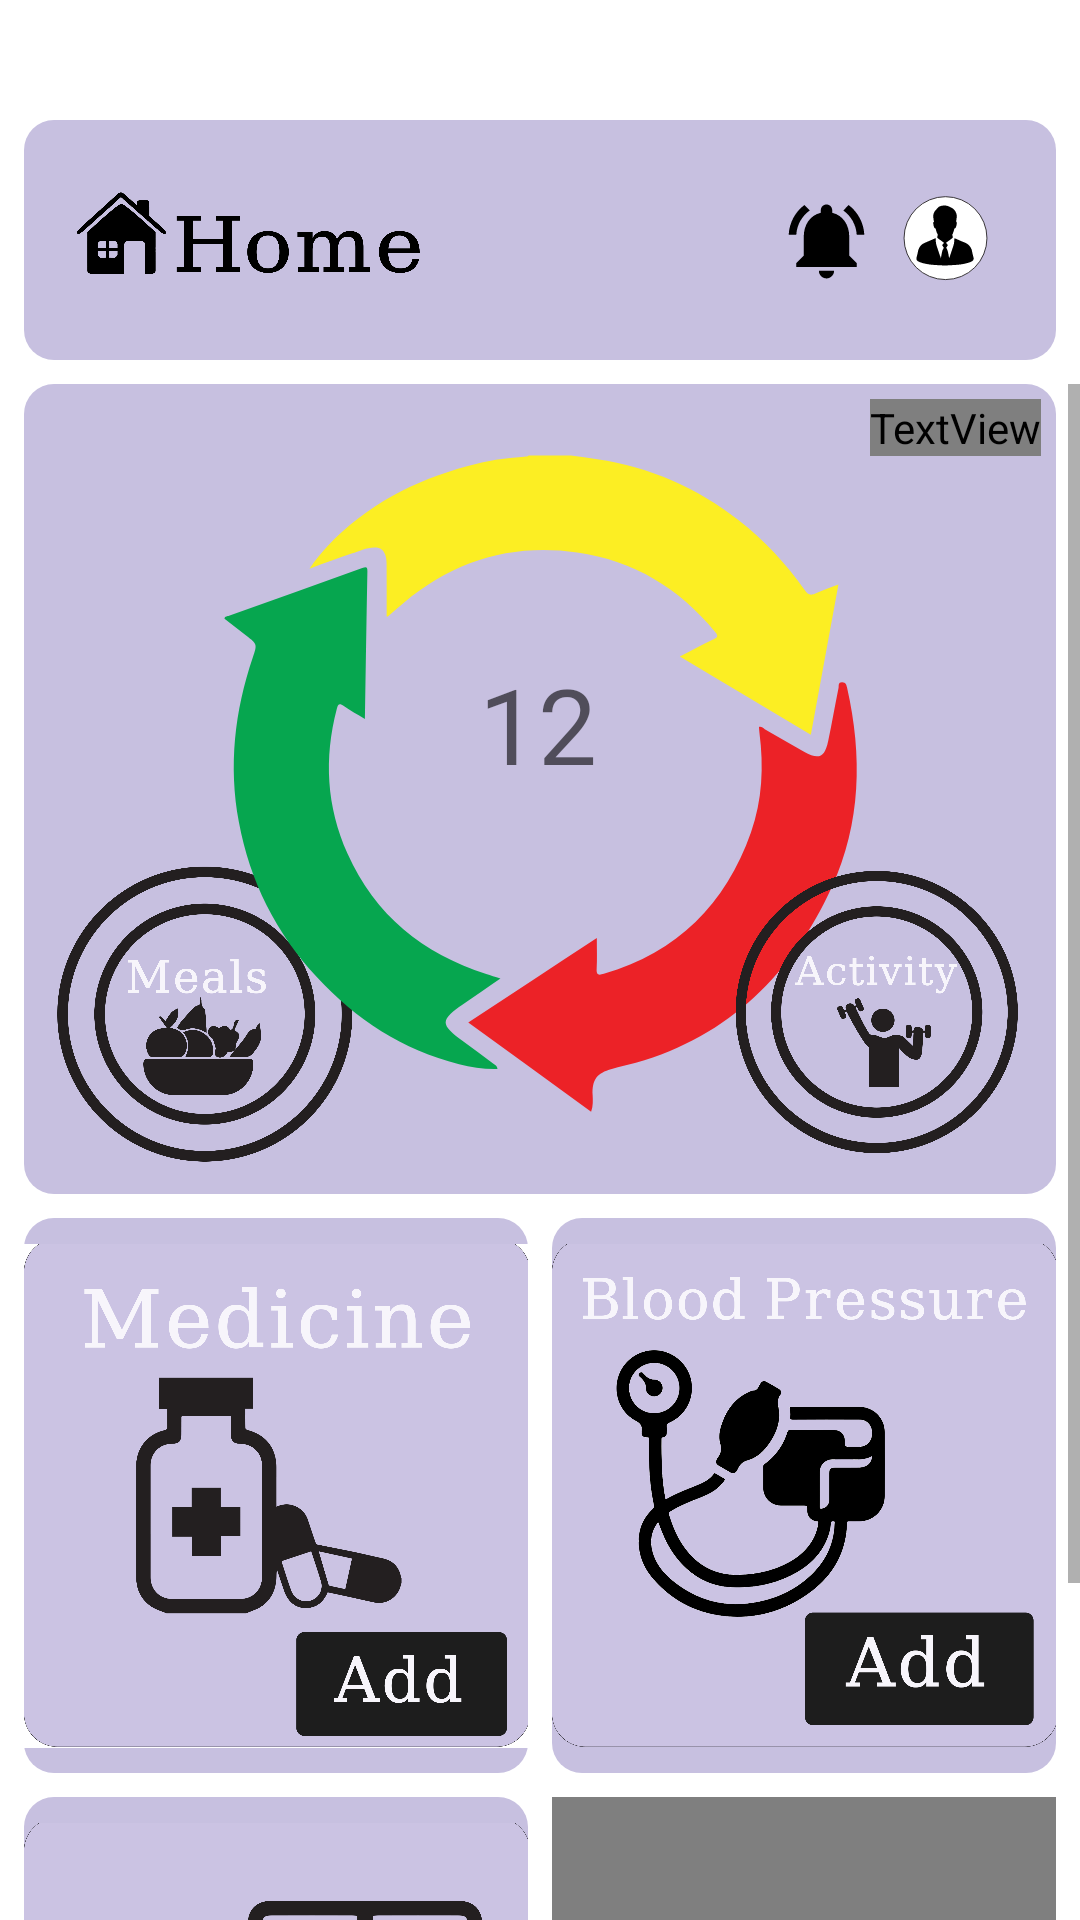

Named icons in this screenshot (1080 x 1920) and their centers, (x,y):
Notification Icon: (826,241)
Profile Icon: (945,238)
